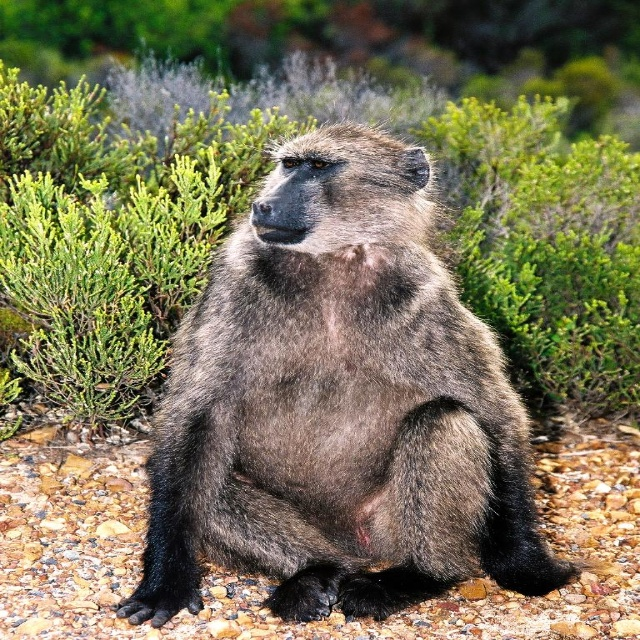Monkey: (109, 101, 622, 627)
